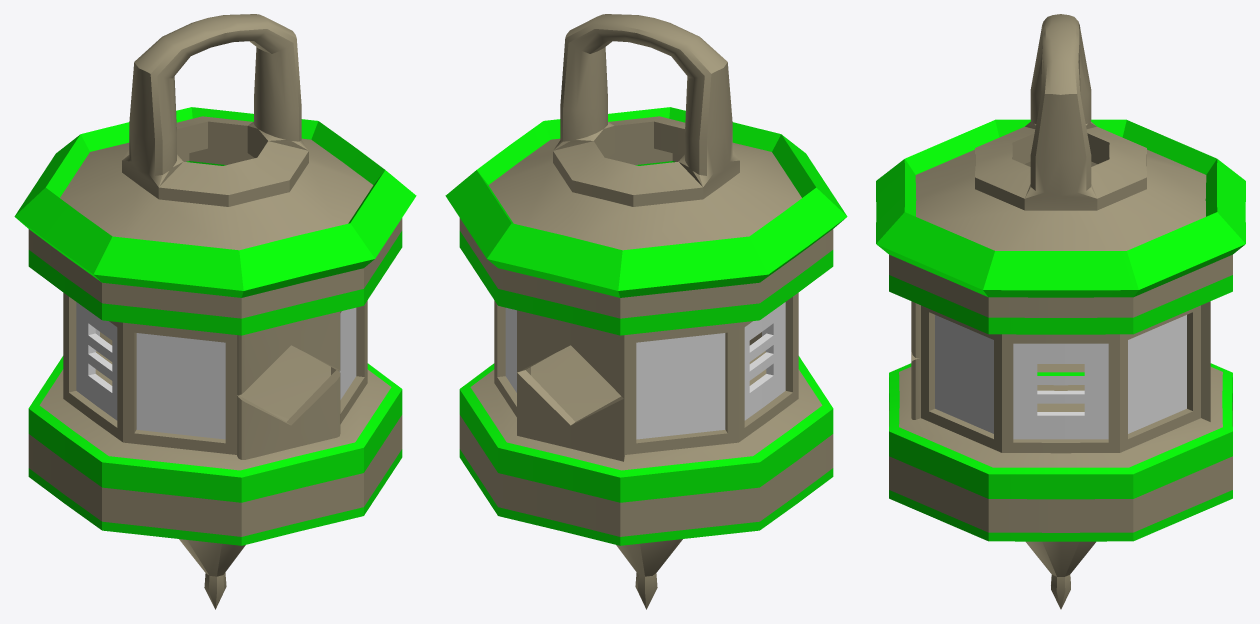
File: SM_Insence.fbx
3 renders of one model, left to right at view 1: azimuth 30°, elevation 25°; view 2: azimuth 150°, elevation 25°; view 3: azimuth 270°, elevation 25°, orthographic.
Parts seen in each view (by area): view 1: SM_insense; view 2: SM_insense; view 3: SM_insense.
Boxes of the visible parts, x1,y1,x2,y2 form: SM_insense: (14, 14, 416, 609); SM_insense: (445, 14, 847, 609); SM_insense: (876, 14, 1245, 609).
Size of the model in its own units: 56.53 by 98.07 by 56.73.
